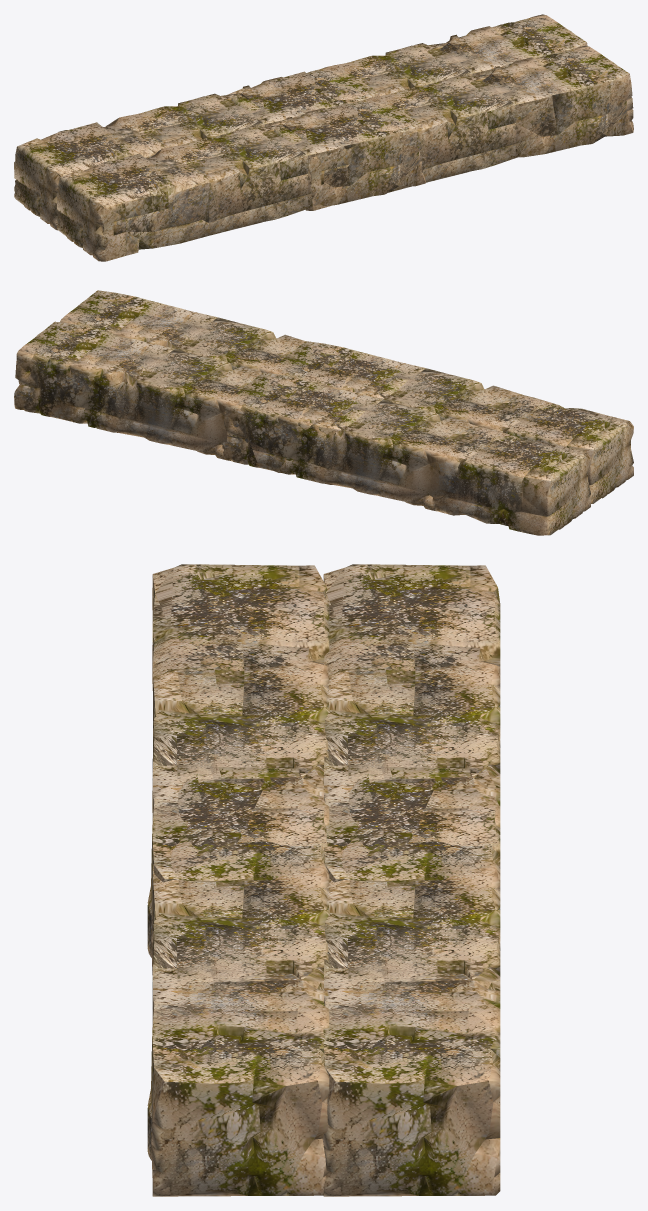
Rendered from ADP_Tutorial_LowLintel_R2.fbx.
The picture shows the model from 3 angles, top to bottom: view 1: azimuth 30°, elevation 25°; view 2: azimuth 150°, elevation 25°; view 3: azimuth 270°, elevation 25°; orthographic projection. The views are drawn at different scales.
Visible parts, largest first — view 1: LowLintel_Visual; view 2: LowLintel_Visual; view 3: LowLintel_Visual.
Part boxes in pixels (x1,y1,x2,y2): LowLintel_Visual: [14, 14, 633, 261]; LowLintel_Visual: [14, 290, 633, 535]; LowLintel_Visual: [147, 564, 500, 1196].
Size of the model in its own units: 4.2 by 0.45 by 1.2.
